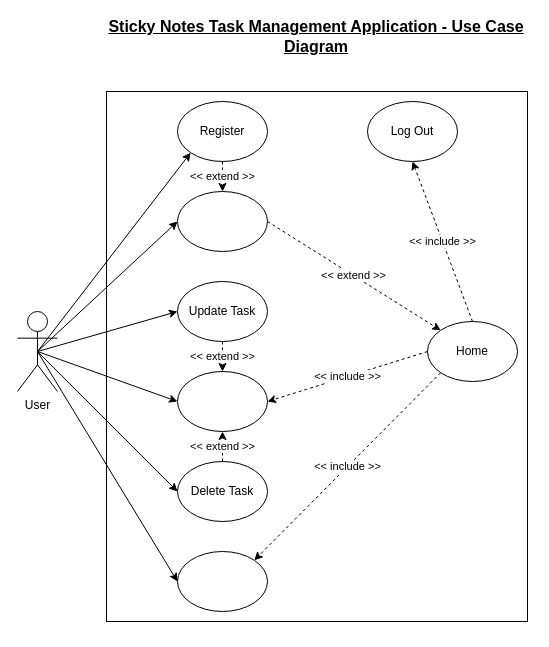
This 549x647 diagram has some shape labels left out. The centre of each missing label's shape, as x and y in pixels:
"Create Task" belongs at (222,581).
"Log In" belongs at (222,221).
"View Task" belongs at (222,401).
